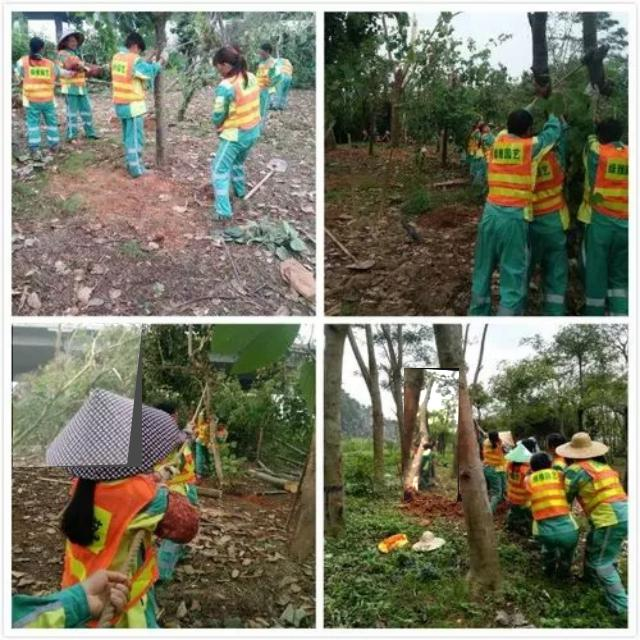Fallen Tree: (13, 324, 143, 468), (404, 368, 460, 502)
